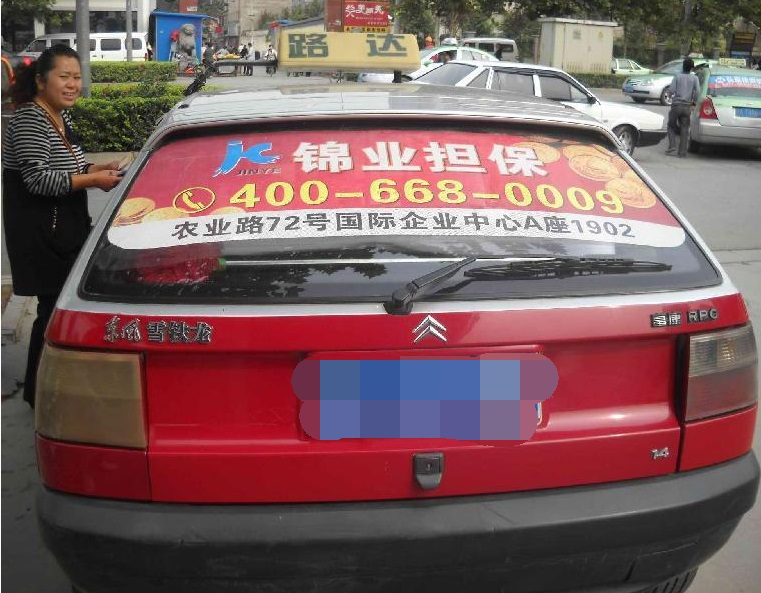taxi: (34, 28, 758, 593)
